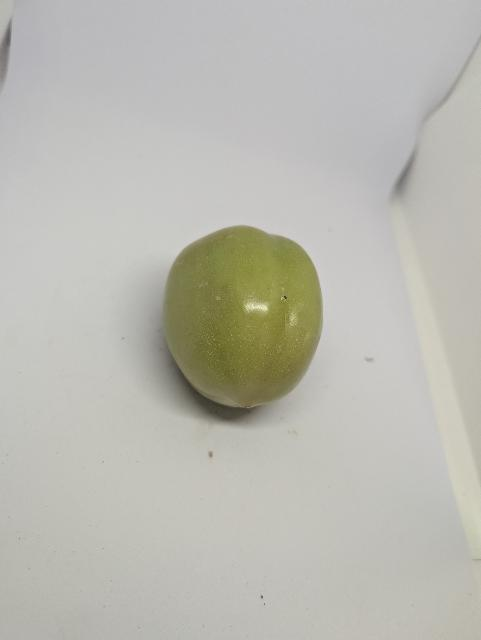green: (163, 223, 328, 414)
